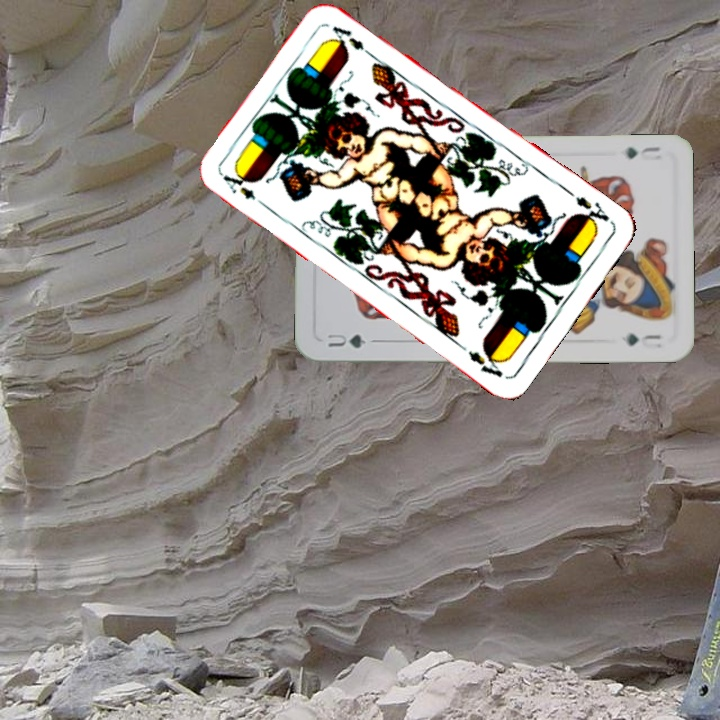EA: (571, 192, 612, 231), (218, 167, 259, 203)
GU: (323, 330, 368, 351), (622, 142, 664, 163)
